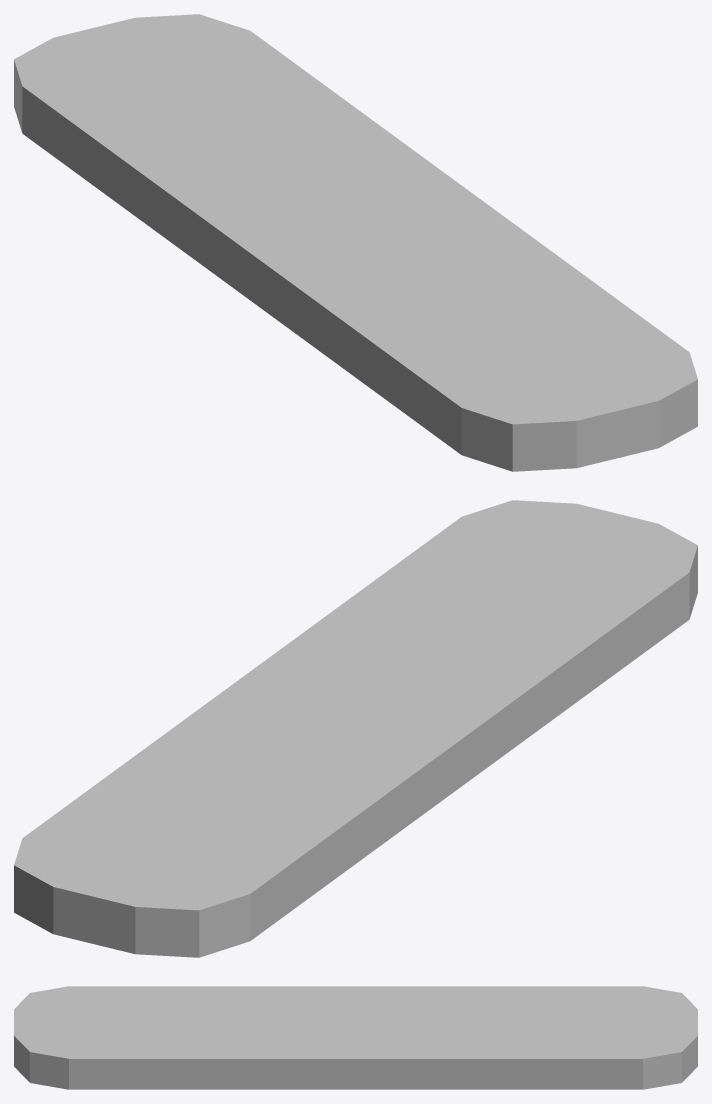
File: Shelf_6.fbx
3 views of the same model, one above another, from view 1: azimuth 30°, elevation 25°; view 2: azimuth 150°, elevation 25°; view 3: azimuth 270°, elevation 25° (orthographic). The views are drawn at different scales.
Parts seen in each view (by area): view 1: Shelf_6; view 2: Shelf_6; view 3: Shelf_6.
Part boxes in pixels (x1,y1,x2,y2): Shelf_6: (14, 14, 697, 471); Shelf_6: (14, 500, 697, 957); Shelf_6: (14, 986, 697, 1089).
Bounding box in the file's own units: 0.2693 × 0.0535 × 1.07.
